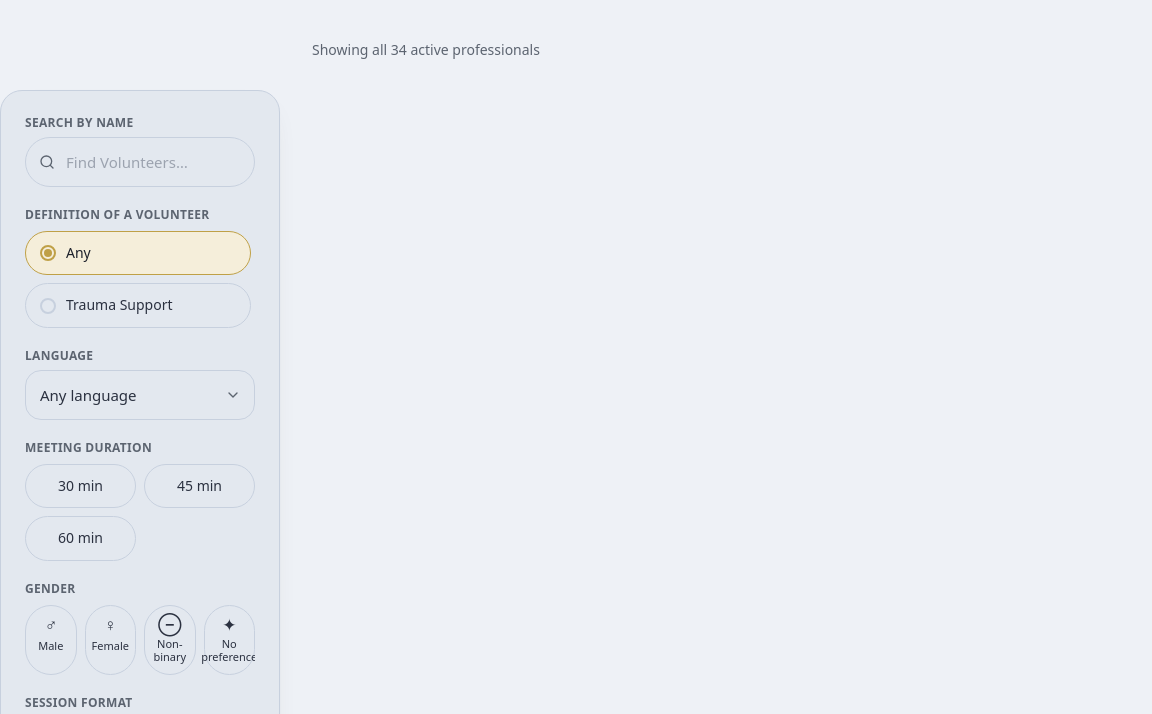
Test: TherapistsDirectory › no pagination › keeps the full matching set visible (no cap) once a filter narrows the list
Step 1. Type "Therapist" into the field with placeholder "Find Volunteers…" → (140, 162), box [25, 137, 255, 187]
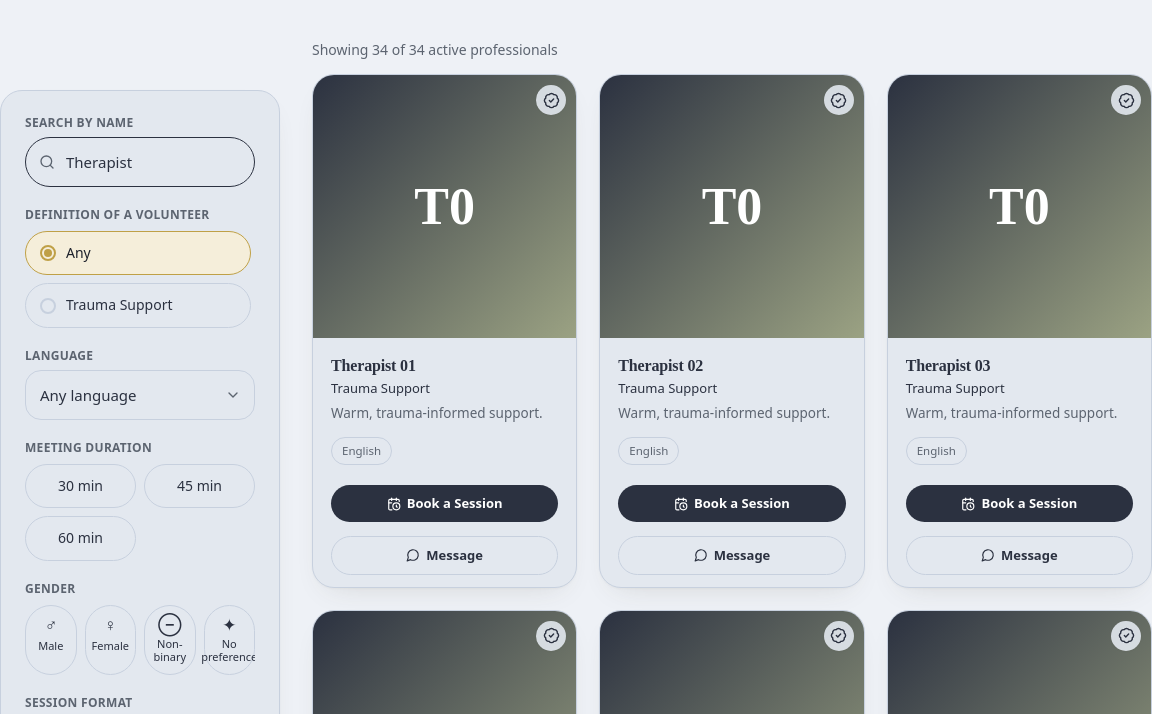
Result: the text "Showing 34 of 34 active professionals" is shown at [312, 40, 558, 59]
Result: the number of headings is 34
